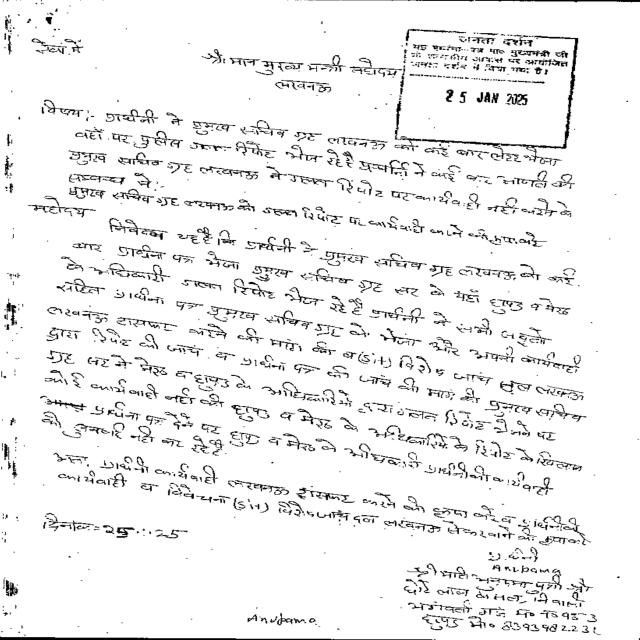jantadarsan: (396, 28, 580, 148)
